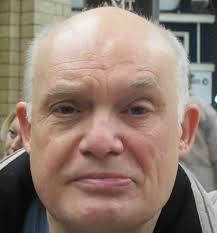strokeEyeWeak: (45, 71, 166, 128)
strokeMouthWeak: (63, 163, 144, 192)
